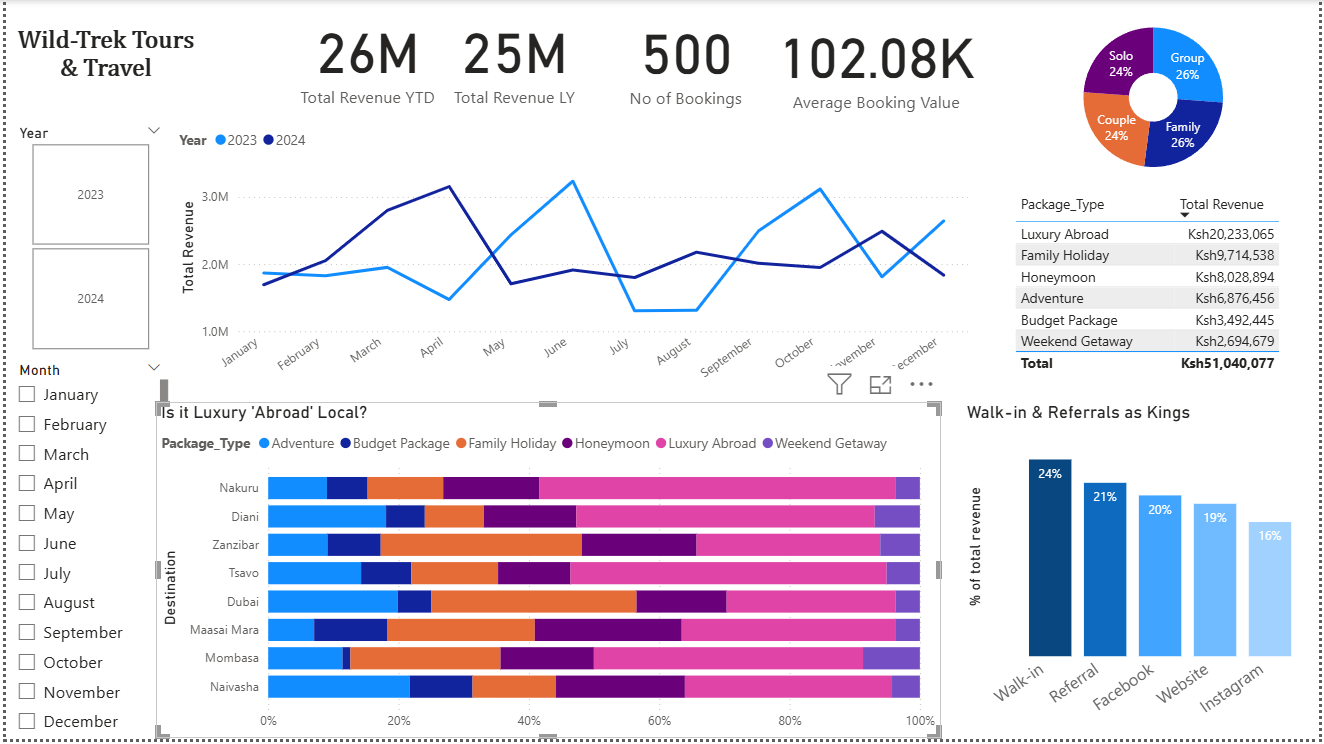

The page's visual inventory and layout, read from the dashboard file:
{"tool":"powerbi","page":{"name":"Dashboard","canvas":[1280,720],"ordinal":0},"visuals":[{"type":"card","fields":{"Values":["Data.No of Bookings"]},"box":[585.3,0,154.8,112.3],"z":0},{"type":"card","fields":{"Values":["Data.Average Booking Value"]},"box":[740.1,3.4,216.1,114],"z":1000},{"type":"card","fields":{"Values":["Data.Total Revenue LY"]},"box":[425.3,0,139.5,110.6],"z":2000},{"type":"card","fields":{"Values":["Data.Total Revenue YTD"]},"box":[279.1,0,146.1,111.1],"z":3000},{"type":"lineChart","fields":{"Y":["Data.Total Revenue"],"Category":["Date.Month"],"Series":["Date.Year"]},"box":[163.7,116,778.8,275],"z":4000},{"type":"slicer","fields":{"Values":["Date.Month"]},"box":[0,347.1,163.3,372.6],"z":5000},{"type":"donutChart","fields":{"Category":["Data.Customer_Type"],"Y":["Data.Total Revenue"]},"box":[956.2,0,323.3,188.9],"z":6000},{"type":"clusteredColumnChart","title":"Walk-in & Referrals as Kings","fields":{"Category":["Data.Channel"],"Y":["Data.% of total revenue"]},"box":[930.7,391.3,348.8,328.4],"z":7000},{"type":"hundredPercentStackedBarChart","title":"Is it Luxury ''Abroad'' Local?","fields":{"Category":["Data.Destination"],"Y":["Data.Total Revenue"],"Series":["Data.Package_Type"]},"box":[146.3,391.3,763.9,328.4],"z":8000},{"type":"tableEx","fields":{"Values":["Data.Package_Type","Data.Total Revenue"]},"box":[978.3,182,285.8,209.3],"z":9000},{"type":"slicer","fields":{"Values":["Data.Year"]},"box":[0,115.7,163.3,231.4],"z":9001},{"type":"textbox","box":[0,20.5,194.4,90.6],"z":9002}]}

Visuals, with their boxes in screenshot pixels (x1, y1, x2, y2), scaled from the page's 1280x720 canvas onto the 1324x744 screenshot:
card - Data.No of Bookings: x1=605, y1=0, x2=766, y2=116
card - Data.Average Booking Value: x1=766, y1=4, x2=989, y2=121
card - Data.Total Revenue LY: x1=440, y1=0, x2=584, y2=114
card - Data.Total Revenue YTD: x1=289, y1=0, x2=440, y2=115
lineChart - Data.Total Revenue x Date.Month: x1=169, y1=120, x2=975, y2=404
slicer - Date.Month: x1=0, y1=359, x2=169, y2=743
donutChart - Data.Customer_Type x Data.Total Revenue: x1=989, y1=0, x2=1323, y2=195
"Walk-in & Referrals as Kings" clusteredColumnChart: x1=963, y1=404, x2=1323, y2=743
"Is it Luxury ''Abroad'' Local?" hundredPercentStackedBarChart: x1=151, y1=404, x2=941, y2=743
tableEx - Data.Package_Type x Data.Total Revenue: x1=1012, y1=188, x2=1308, y2=404
slicer - Data.Year: x1=0, y1=120, x2=169, y2=359
textbox: x1=0, y1=21, x2=201, y2=115
